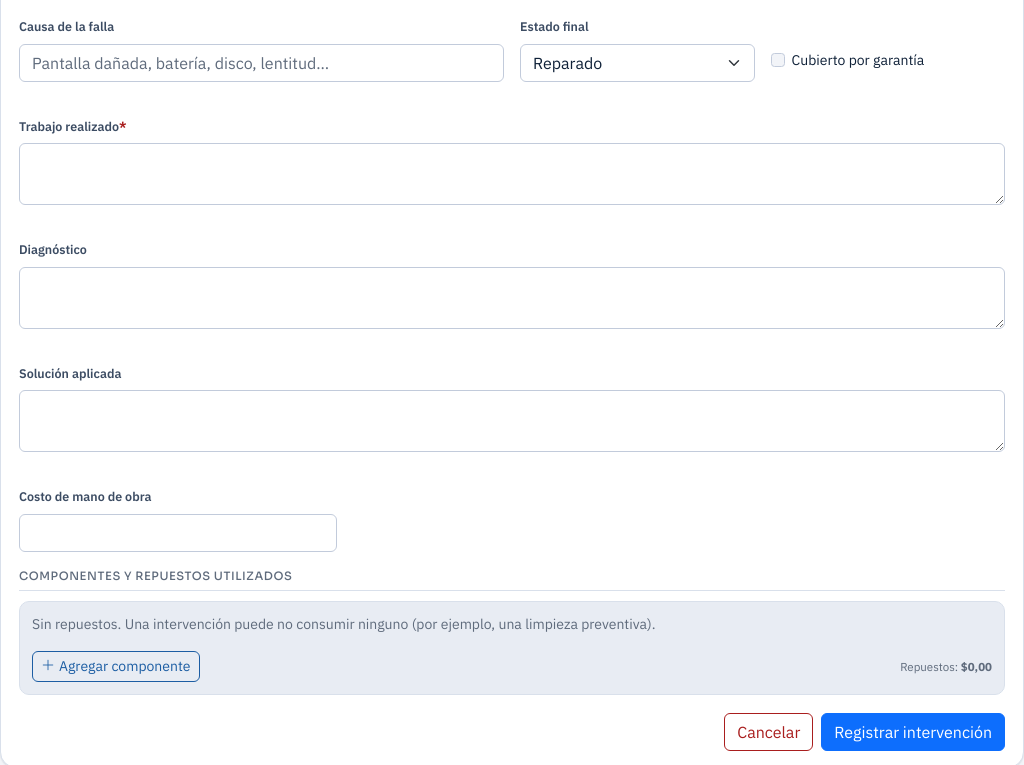
Test: Al guardar › avisa al capturar una pieza crítica: dispara la sugerencia de reemplazo
(page scrolled)
Click the button "Agregar componente".
click(116, 666)  # box [32, 651, 200, 682]
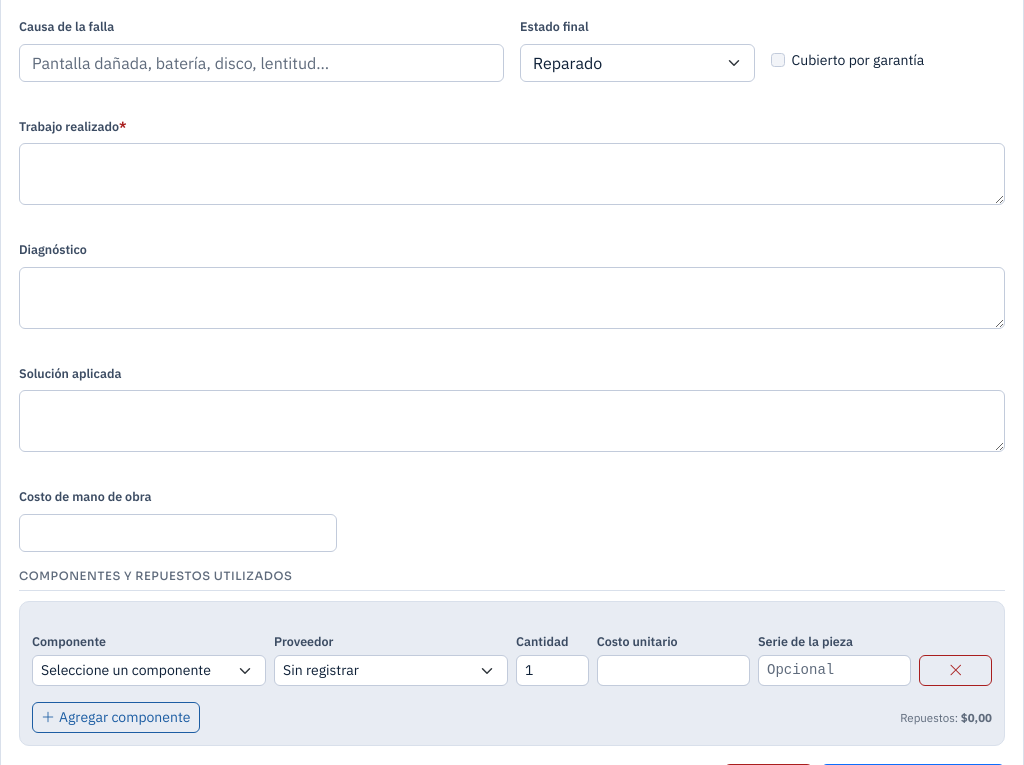
Select "Disco SSD 480 GB (crítica)" in the dropdown labelled "Componente" at (149, 671), box [32, 655, 266, 686]
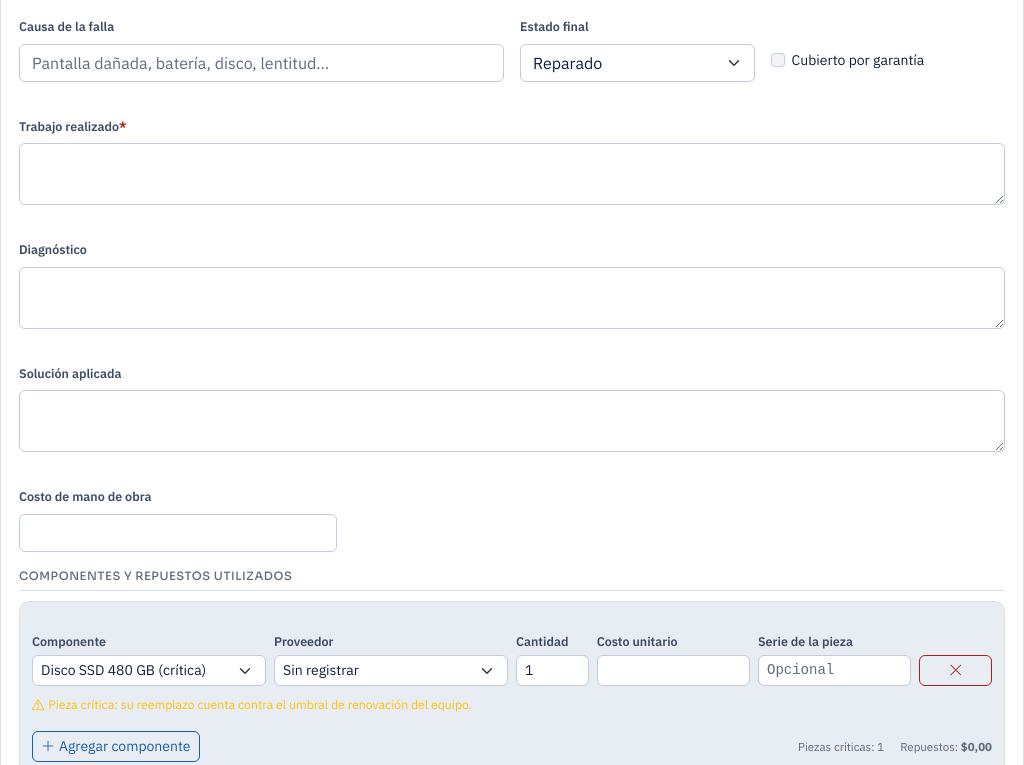
Now the text "Pieza crítica" is shown, box [48, 696, 472, 712]
